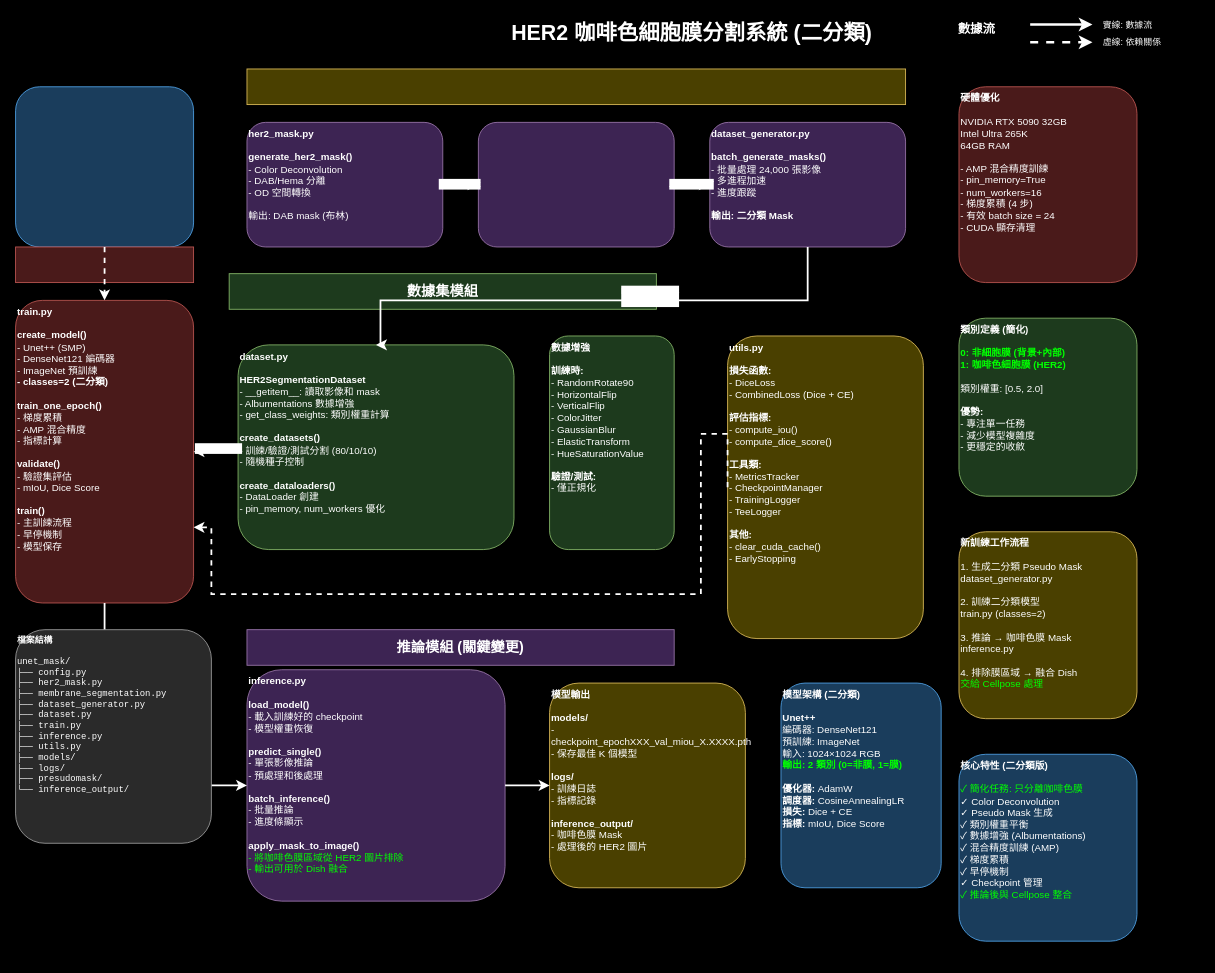
Some shapes in this 1215 by 973 pixel diagram are drawn without their labels. Each missing label, with the centre of its shape:
config.py Config 類 - 路徑設定 - 超參數 - 模型架構配置 - 硬體優化參數 重要變更: NUM_CLASSES = 2: point 104,166
membrane_segmentation.py 簡化邏輯 (二分類): - 咖啡色細胞膜: 1 - 非細胞膜 (背景): 0 輸出: 0-1 標籤圖: point 575,184
數據處理流程 (簡化版): point 576,86
訓練模組: point 104,264
